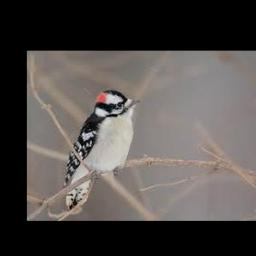Woodpecker: (64, 90, 140, 211)
